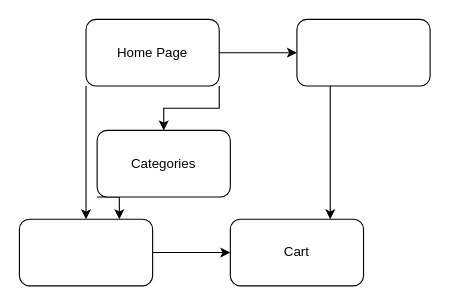
This 450x305 diagram has some shape labels left out. Here are the shapes that lost their labels. From the top down, the centre of each, then its label:
At point (363, 52): "Account Page".
At point (85, 252): "Product Page".
